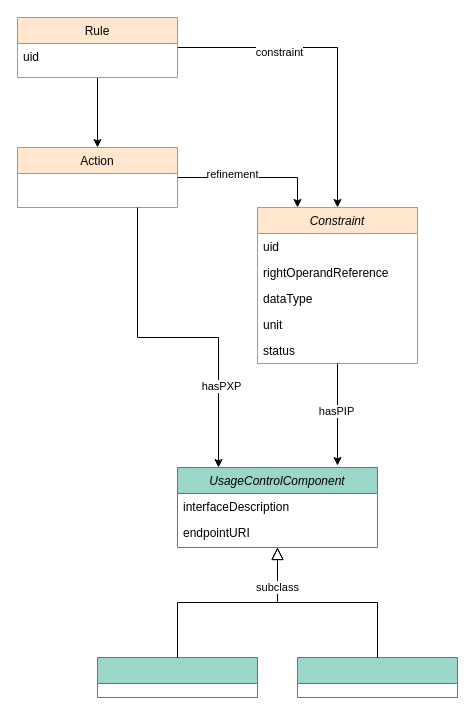
This 475x715 diagram has some shape labels left out. Each missing label, with the centre of its shape:
"Policy Execution Point" belongs at [377,677].
"Policy Information Point" belongs at [177,677].
